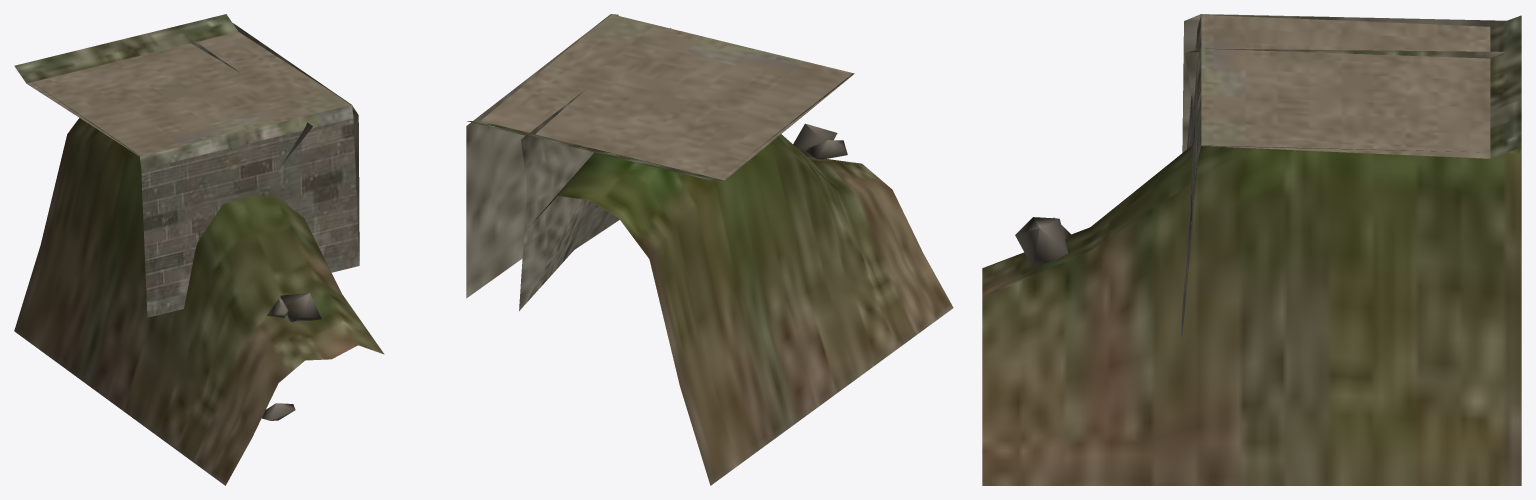
Rendered from starfort_bastion_gorge_far.glb.
3 views of the same model, side by side, from view 1: azimuth 30°, elevation 25°; view 2: azimuth 150°, elevation 25°; view 3: azimuth 270°, elevation 25° (orthographic). The views are drawn at different scales.
Parts seen in each view (by area): view 1: breached, intact, cracked, endcap_b; view 2: breached, intact, endcap_b; view 3: breached, intact, endcap_a.
Boxes of the visible parts, x1,y1,x2,y2 form: breached: [14, 14, 384, 485]; intact: [14, 14, 359, 317]; cracked: [142, 145, 359, 420]; endcap_b: [233, 23, 359, 260]; breached: [469, 15, 953, 485]; intact: [467, 14, 852, 180]; endcap_b: [466, 14, 618, 298]; breached: [982, 15, 1521, 485]; intact: [1181, 14, 1521, 342]; endcap_a: [1182, 14, 1506, 152].
Size of what is drawn, in the model's own units: 4.03 by 4.87 by 6.9.
1 material, 1 textured.
